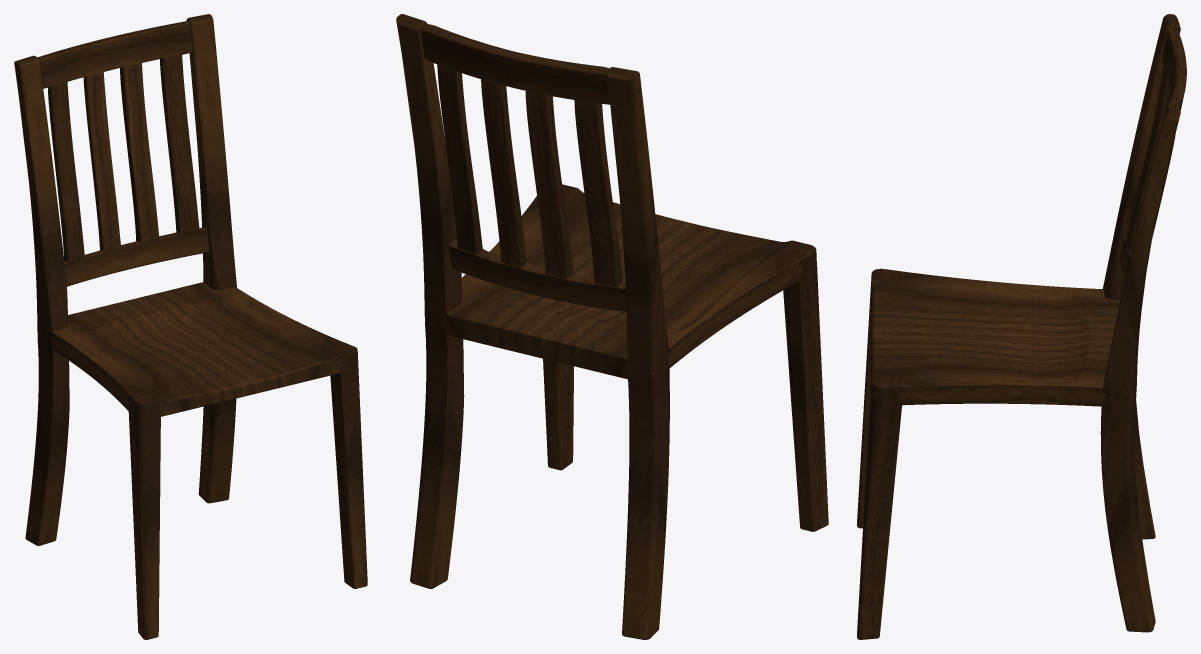
The model's file is traditional-straight.glb.
The picture shows the model from 3 angles, left to right: view 1: azimuth 30°, elevation 25°; view 2: azimuth 150°, elevation 25°; view 3: azimuth 270°, elevation 25°; orthographic projection. The views are drawn at different scales.
Visible parts, largest first — view 1: Simple Dining Chair; view 2: Simple Dining Chair; view 3: Simple Dining Chair.
Boxes of the visible parts, bbox=[...] form: Simple Dining Chair: bbox=[14, 14, 367, 639]; Simple Dining Chair: bbox=[396, 14, 828, 639]; Simple Dining Chair: bbox=[857, 14, 1186, 639].
Size of the model in its own units: 0.4717 by 0.9469 by 0.5492.
1 material, 1 textured.
